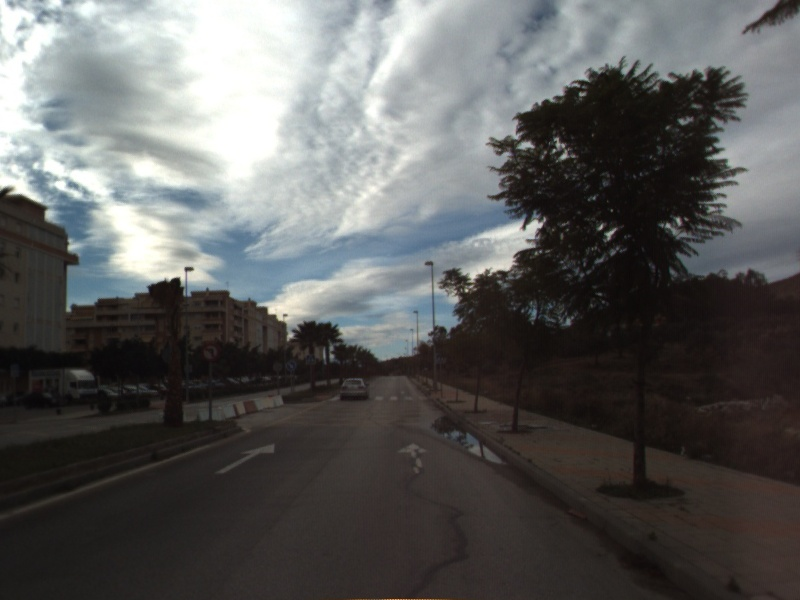STRAIGHT: (212, 442, 277, 476), (395, 440, 432, 476)
